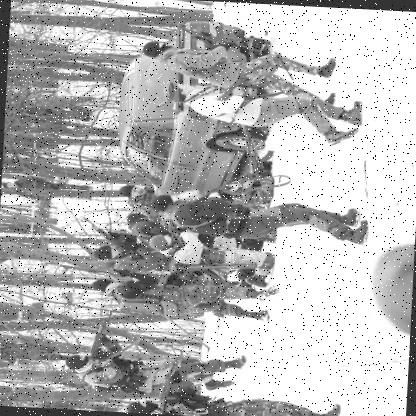rifle: (215, 48, 278, 104), (80, 215, 149, 256), (174, 20, 259, 52), (237, 128, 285, 182), (153, 353, 192, 415), (39, 260, 148, 280), (85, 307, 122, 362), (205, 173, 251, 203)
